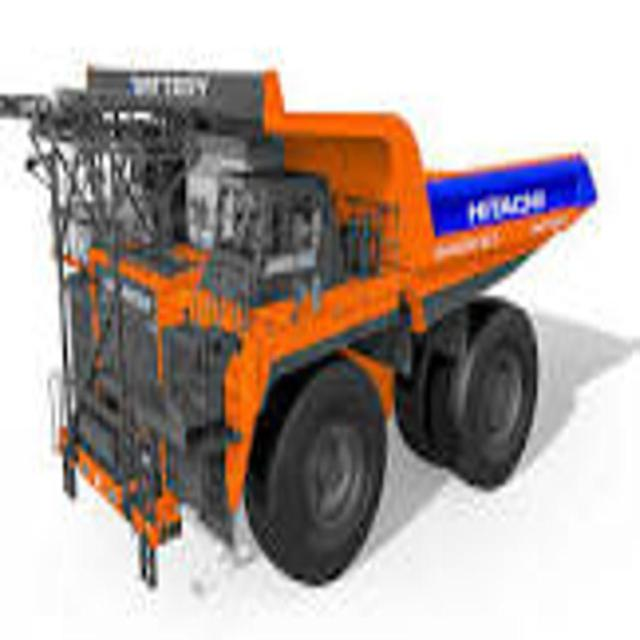dump_truck: (0, 31, 602, 592)
